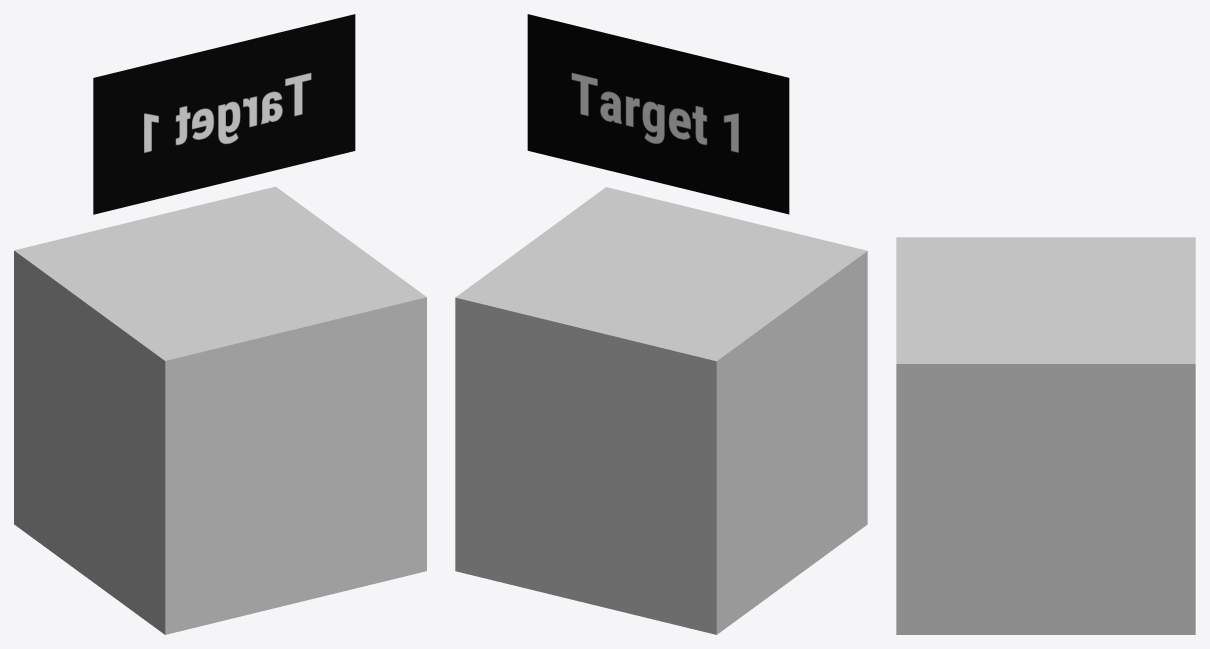
File: target_1.gltf
The picture shows the model from 3 angles, left to right: view 1: azimuth 30°, elevation 25°; view 2: azimuth 150°, elevation 25°; view 3: azimuth 270°, elevation 25°; orthographic projection.
Parts seen in each view (by area): view 1: Target 1, Canvas (1); view 2: Target 1, Canvas (1); view 3: Target 1.
Part boxes in pixels (x1,y1,x2,y2): Target 1: (14, 186, 426, 634); Canvas (1): (93, 14, 355, 214); Target 1: (455, 187, 867, 634); Canvas (1): (527, 14, 789, 214); Target 1: (896, 237, 1195, 634).
Size of the model in its own units: 1.01 by 1.83 by 1.
Materials: 2 (1 with a texture image).
